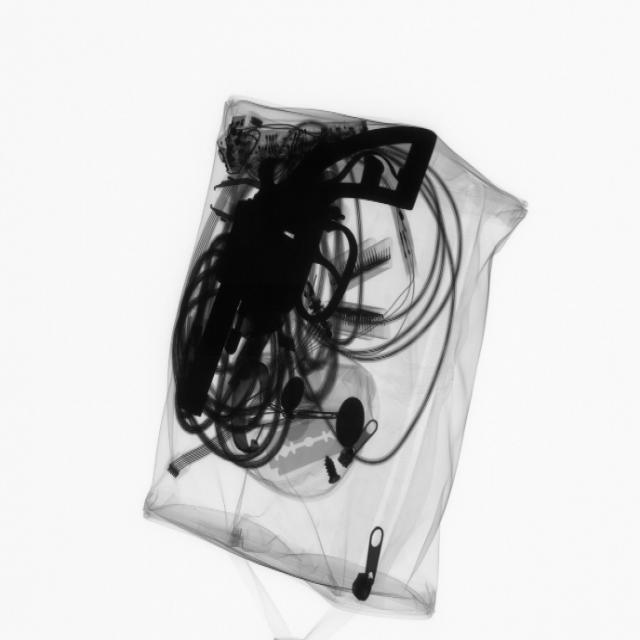BLADE: (269, 404, 363, 487)
GUN: (199, 120, 448, 398)
